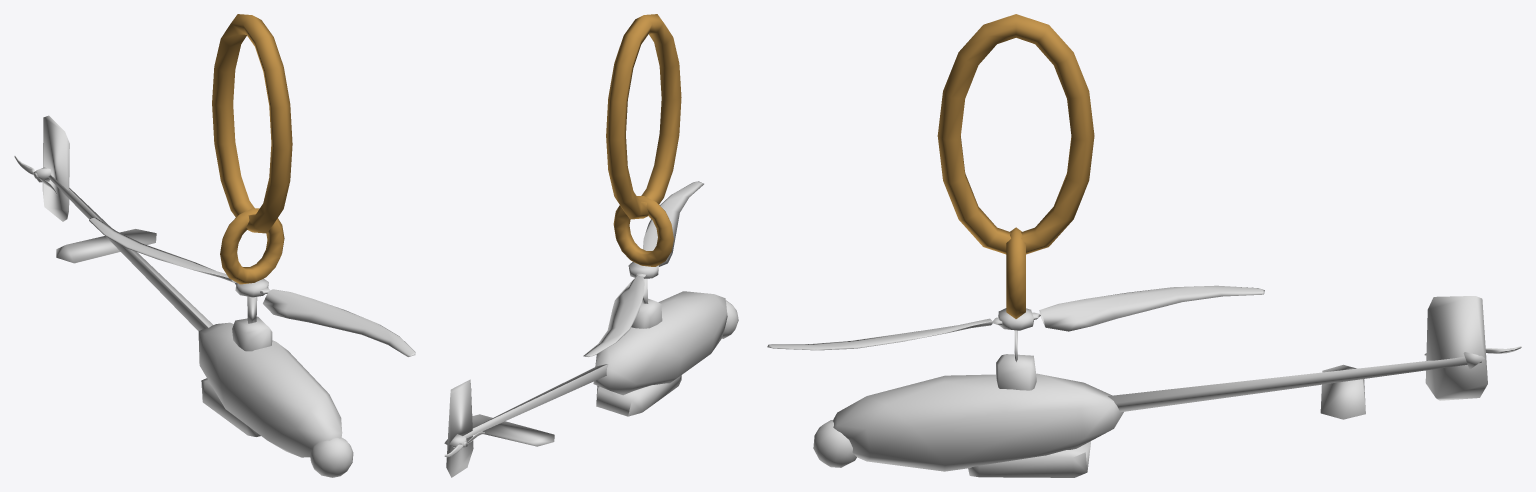
File: pocket_scout_lod2.obj
3 renders of one model, left to right at view 1: azimuth 30°, elevation 25°; view 2: azimuth 150°, elevation 25°; view 3: azimuth 270°, elevation 25°, orthographic. The views are drawn at different scales.
Parts seen in each view (by area): view 1: pocket_scout_lod2; view 2: pocket_scout_lod2; view 3: pocket_scout_lod2.
Part boxes in pixels (x1=…): pocket_scout_lod2: x1=14, y1=14, x2=415, y2=477; pocket_scout_lod2: x1=444, y1=14, x2=738, y2=477; pocket_scout_lod2: x1=767, y1=14, x2=1521, y2=477.
Size of the model in its own units: 0.2672 by 0.8746 by 1.32.
